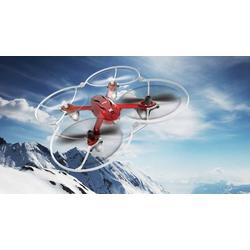drone: (34, 65, 192, 175)
